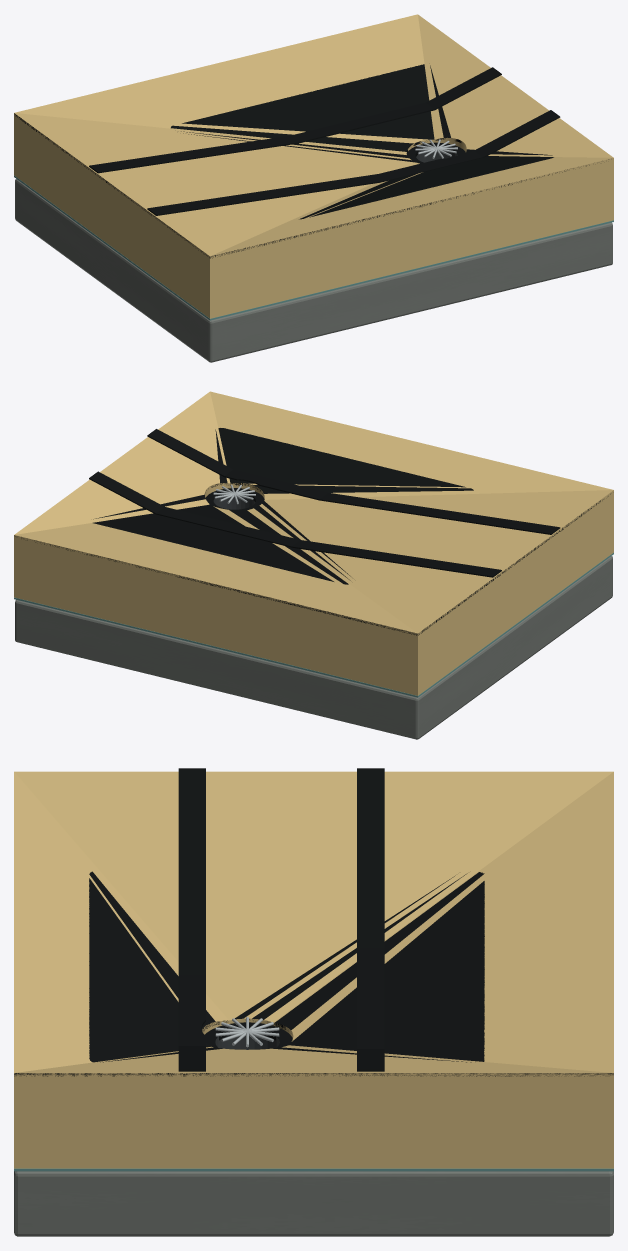
File: modell.glb
3 renders of one model, top to bottom at view 1: azimuth 30°, elevation 25°; view 2: azimuth 150°, elevation 25°; view 3: azimuth 270°, elevation 25°, orthographic. The views are drawn at different scales.
Visible parts, largest first — view 1: g06-gefaelle_daemmung, g06-untergrund_tragwerk, g06-abdichtung_deckung, g06-naht_deckung, g06-luftdichtheit_luftdichtheit, g06-ablauf_.002; view 2: g06-gefaelle_daemmung, g06-untergrund_tragwerk, g06-abdichtung_deckung, g06-naht_deckung, g06-luftdichtheit_luftdichtheit; view 3: g06-gefaelle_daemmung, g06-untergrund_tragwerk, g06-abdichtung_deckung, g06-naht_deckung, g06-luftdichtheit_luftdichtheit, g06-ablauf_.002, g06-flansch_, g06-ablauf_.
Part boxes in pixels (x1,y1,x2,y2): g06-gefaelle_daemmung: (14, 14, 613, 318); g06-untergrund_tragwerk: (15, 179, 612, 362); g06-abdichtung_deckung: (14, 64, 608, 258); g06-naht_deckung: (89, 67, 560, 215); g06-luftdichtheit_luftdichtheit: (14, 175, 613, 320); g06-ablauf_.002: (415, 139, 457, 158); g06-gefaelle_daemmung: (14, 391, 613, 695); g06-untergrund_tragwerk: (15, 556, 612, 739); g06-abdichtung_deckung: (14, 428, 610, 635); g06-naht_deckung: (89, 429, 560, 577); g06-luftdichtheit_luftdichtheit: (14, 552, 613, 697); g06-gefaelle_daemmung: (14, 771, 613, 1168); g06-untergrund_tragwerk: (14, 1171, 613, 1236); g06-abdichtung_deckung: (14, 871, 613, 1076); g06-naht_deckung: (178, 768, 384, 1071); g06-luftdichtheit_luftdichtheit: (14, 1168, 613, 1171); g06-ablauf_.002: (215, 1017, 279, 1047); g06-flansch_: (205, 1022, 292, 1047); g06-ablauf_: (215, 1035, 279, 1049).
Bounding box in the file's own units: 2.2 × 0.571 × 1.85.
6 materials, 1 textured.
